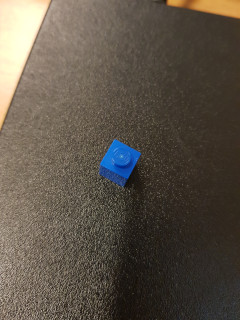1x1 blue: (99, 139, 141, 187)
